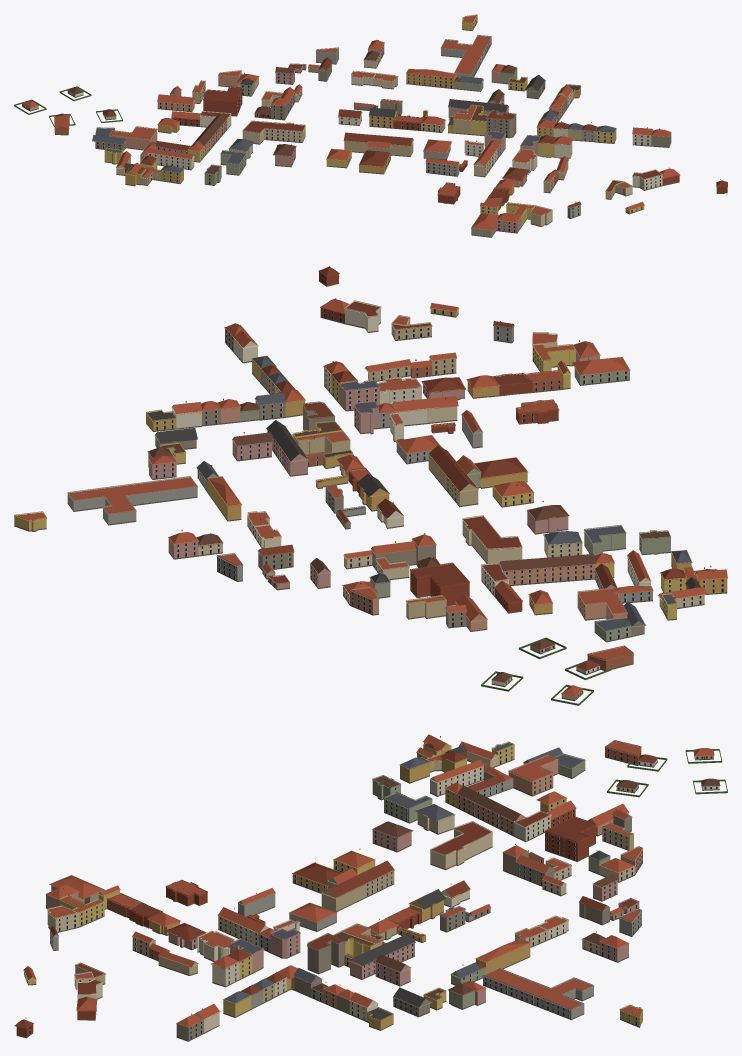
The model's file is Budynki_3_2.fbx.
The picture shows the model from 3 angles, top to bottom: view 1: azimuth 30°, elevation 25°; view 2: azimuth 150°, elevation 25°; view 3: azimuth 270°, elevation 25°; orthographic projection. The views are drawn at different scales.
Visible parts, largest first — view 1: Bud_207250183, Bud_1157916057, Bud_286207155, Bud_209345630, Bud_301719802, Bud_184729318, Bud_209347177, Bud_287316910, Bud_209347176, Bud_286207152, Bud_286207293, Bud_209345625 (+21 smaller); view 2: Bud_207250183, Bud_209347176, Bud_1157916057, Bud_209345630, Bud_286207155, Bud_184729318, Bud_287314867, Bud_286207293, Bud_286207152, Bud_289044546, Bud_844322739, Bud_286207295 (+29 smaller); view 3: Bud_207250183, Bud_286207155, Bud_1157916057, Bud_209345630, Bud_209347176, Bud_184729318, Bud_286207293, Bud_287316910, Bud_301719802, Bud_209347177, Bud_289044546, Bud_844322739 (+45 smaller).
Part boxes in pixels (left/top/right/bottom): Bud_207250183: left=440, top=35, right=491, bottom=77; Bud_1157916057: left=242, top=120, right=305, bottom=144; Bud_286207155: left=343, top=132, right=413, bottom=156; Bud_209345630: left=203, top=87, right=242, bottom=116; Bud_301719802: left=406, top=69, right=456, bottom=88; Bud_184729318: left=109, top=126, right=157, bottom=150; Bud_209347177: left=147, top=148, right=194, bottom=170; Bud_287316910: left=486, top=110, right=516, bottom=138; Bud_209347176: left=193, top=114, right=227, bottom=156; Bud_286207152: left=359, top=150, right=391, bottom=174; Bud_286207293: left=448, top=99, right=509, bottom=117; Bud_209345625: left=157, top=94, right=195, bottom=112; Bud_207250183: left=67, top=476, right=197, bottom=525; Bud_209347176: left=499, top=554, right=595, bottom=585; Bud_1157916057: left=462, top=515, right=522, bottom=564; Bud_209345630: left=410, top=562, right=469, bottom=606; Bud_286207155: left=428, top=445, right=478, bottom=507; Bud_184729318: left=577, top=587, right=627, bottom=620; Bud_287314867: left=571, top=357, right=630, bottom=385; Bud_286207293: left=266, top=420, right=308, bottom=476; Bud_286207152: left=474, top=457, right=527, bottom=488; Bud_289044546: left=584, top=525, right=626, bottom=555; Bud_844322739: left=527, top=500, right=569, bottom=534; Bud_286207295: left=232, top=432, right=272, bottom=461; Bud_207250183: left=483, top=967, right=594, bottom=1019; Bud_286207155: left=321, top=860, right=394, bottom=911; Bud_1157916057: left=430, top=821, right=492, bottom=870; Bud_209345630: left=544, top=816, right=595, bottom=861; Bud_209347176: left=457, top=785, right=526, bottom=836; Bud_184729318: left=508, top=754, right=558, bottom=796; Bud_286207293: left=349, top=933, right=415, bottom=979; Bud_287316910: left=307, top=933, right=344, bottom=974; Bud_301719802: left=475, top=938, right=530, bottom=973; Bud_209347177: left=429, top=760, right=483, bottom=796; Bud_289044546: left=384, top=792, right=432, bottom=823; Bud_844322739: left=372, top=821, right=413, bottom=852.
Size of the model in its own units: 468 by 20.1 by 484.
